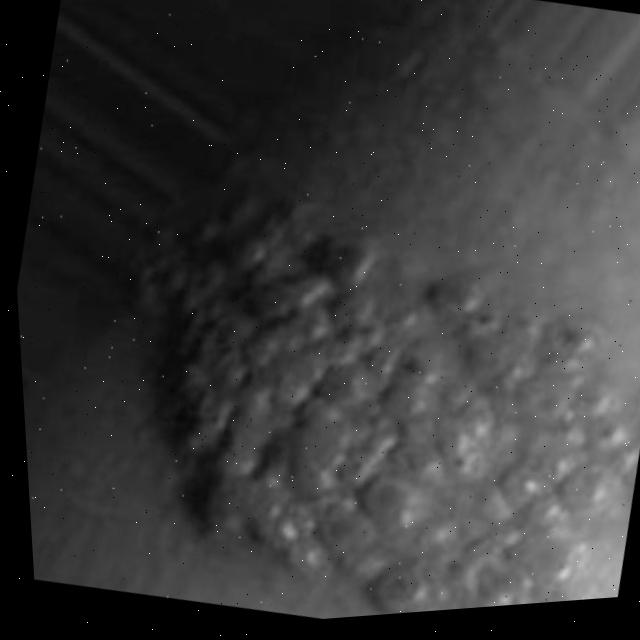Shingles: (80, 147, 640, 635)
